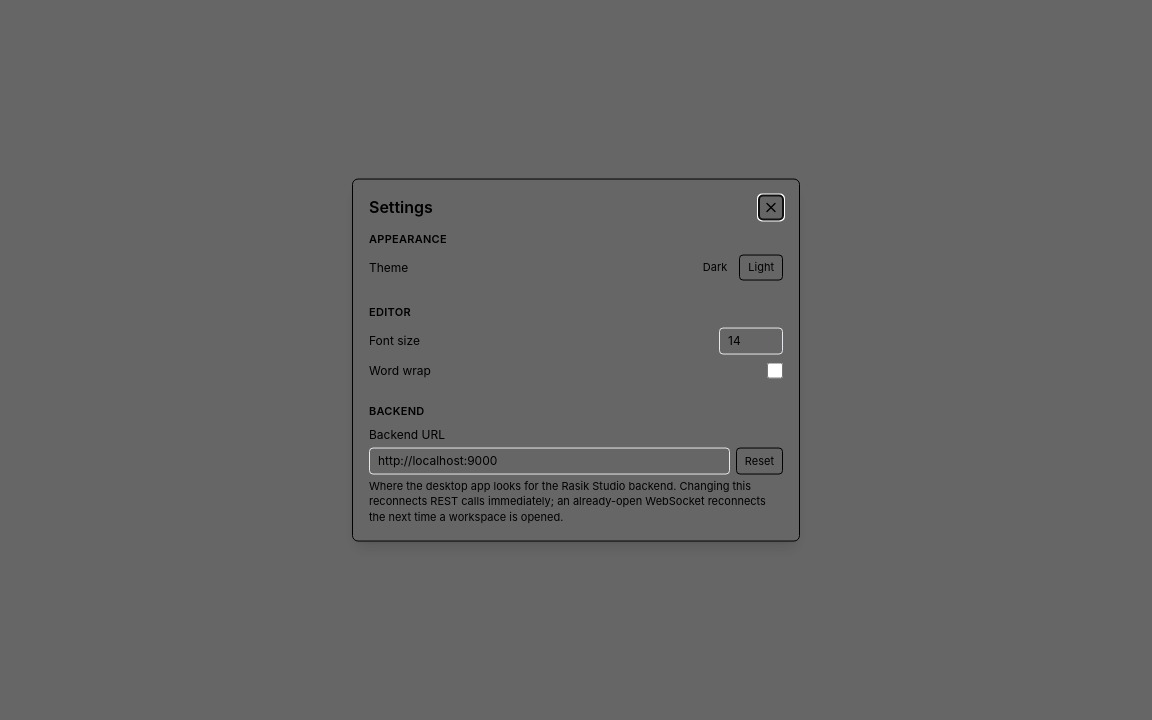
Test case: Settings › resets the backend URL to the default
Click the button "Reset": (759, 461) [736,448,783,474]
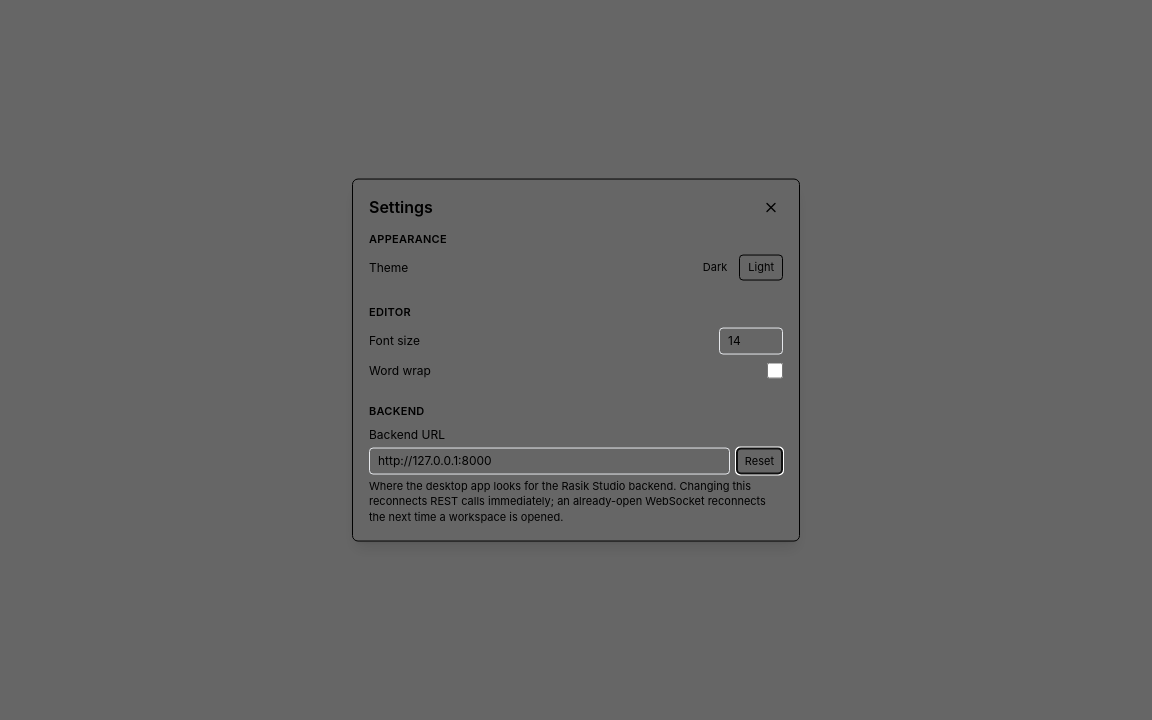
Check: the field labelled "Backend URL" holds "http://127.0.0.1:8000", box [369,448,730,474]
